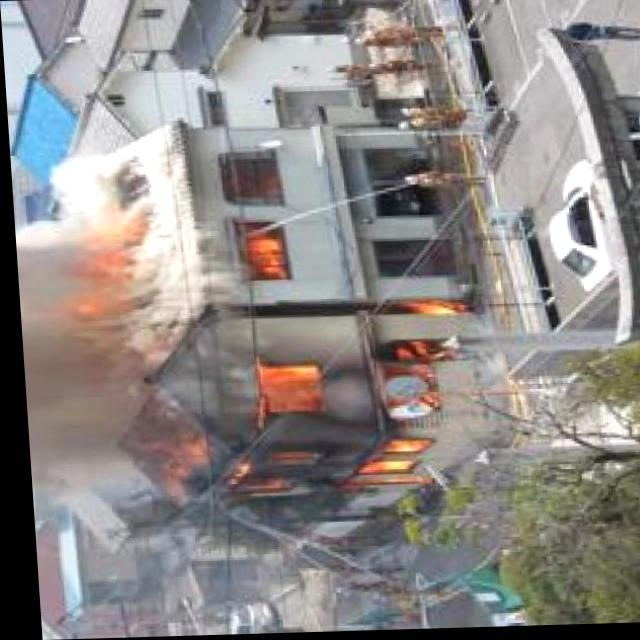fire: (140, 300, 476, 504), (61, 200, 145, 310), (234, 218, 286, 278)
